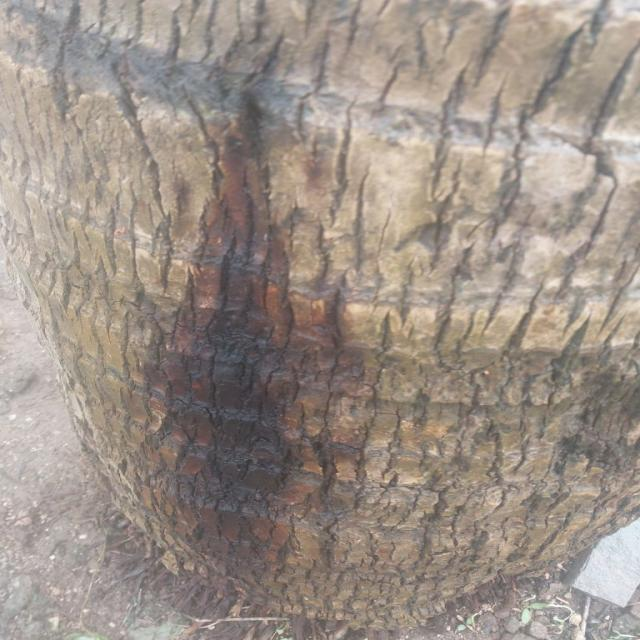stembleeding: (122, 82, 378, 596)
